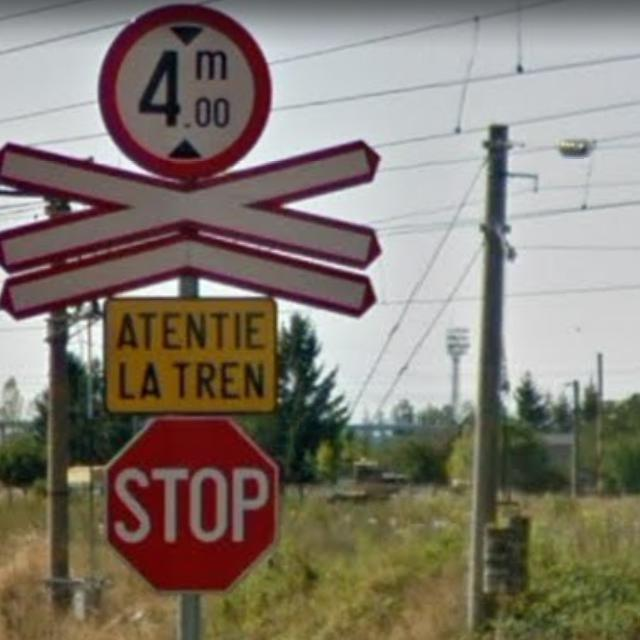prio_stop: (104, 415, 278, 592)
